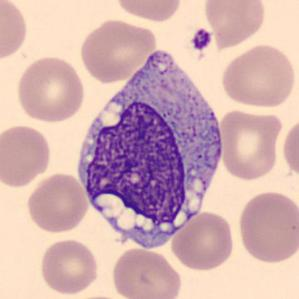Monocyte: (70, 40, 227, 255)
Platelets: (189, 27, 213, 52)
RBC: (77, 16, 158, 84), (218, 42, 298, 110), (14, 54, 87, 124), (217, 107, 284, 182), (236, 189, 298, 265), (169, 209, 237, 272), (24, 171, 90, 234), (110, 246, 184, 299), (38, 237, 100, 296), (0, 121, 53, 189), (201, 0, 268, 50), (0, 0, 30, 64), (113, 0, 184, 23), (281, 115, 299, 182)
